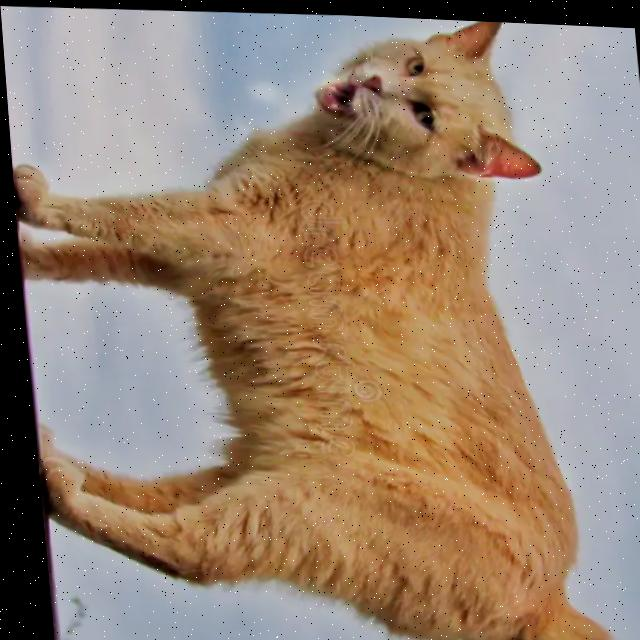American Bobtail: (0, 0, 611, 640)
